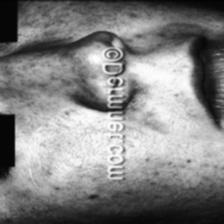Non-Cancerous Skin Condition: (41, 29, 100, 177), (122, 79, 168, 134)
